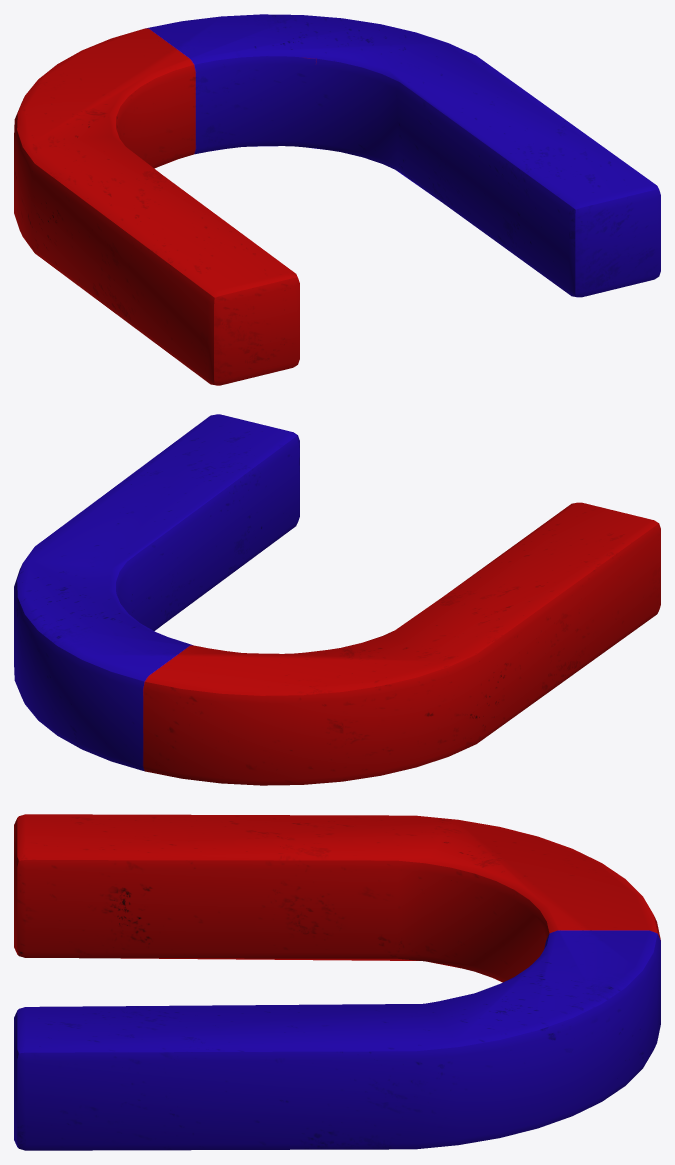
The model's file is magnet.fbx.
The picture shows the model from 3 angles, top to bottom: view 1: azimuth 30°, elevation 25°; view 2: azimuth 150°, elevation 25°; view 3: azimuth 270°, elevation 25°; orthographic projection. The views are drawn at different scales.
Parts seen in each view (by area): view 1: Plane; view 2: Plane; view 3: Plane.
Part boxes in pixels (x1,y1,x2,y2): Plane: (14,14,660,385); Plane: (14,414,660,785); Plane: (14,814,660,1150).
Bounding box in the file's own units: 993 × 200 × 1126.
